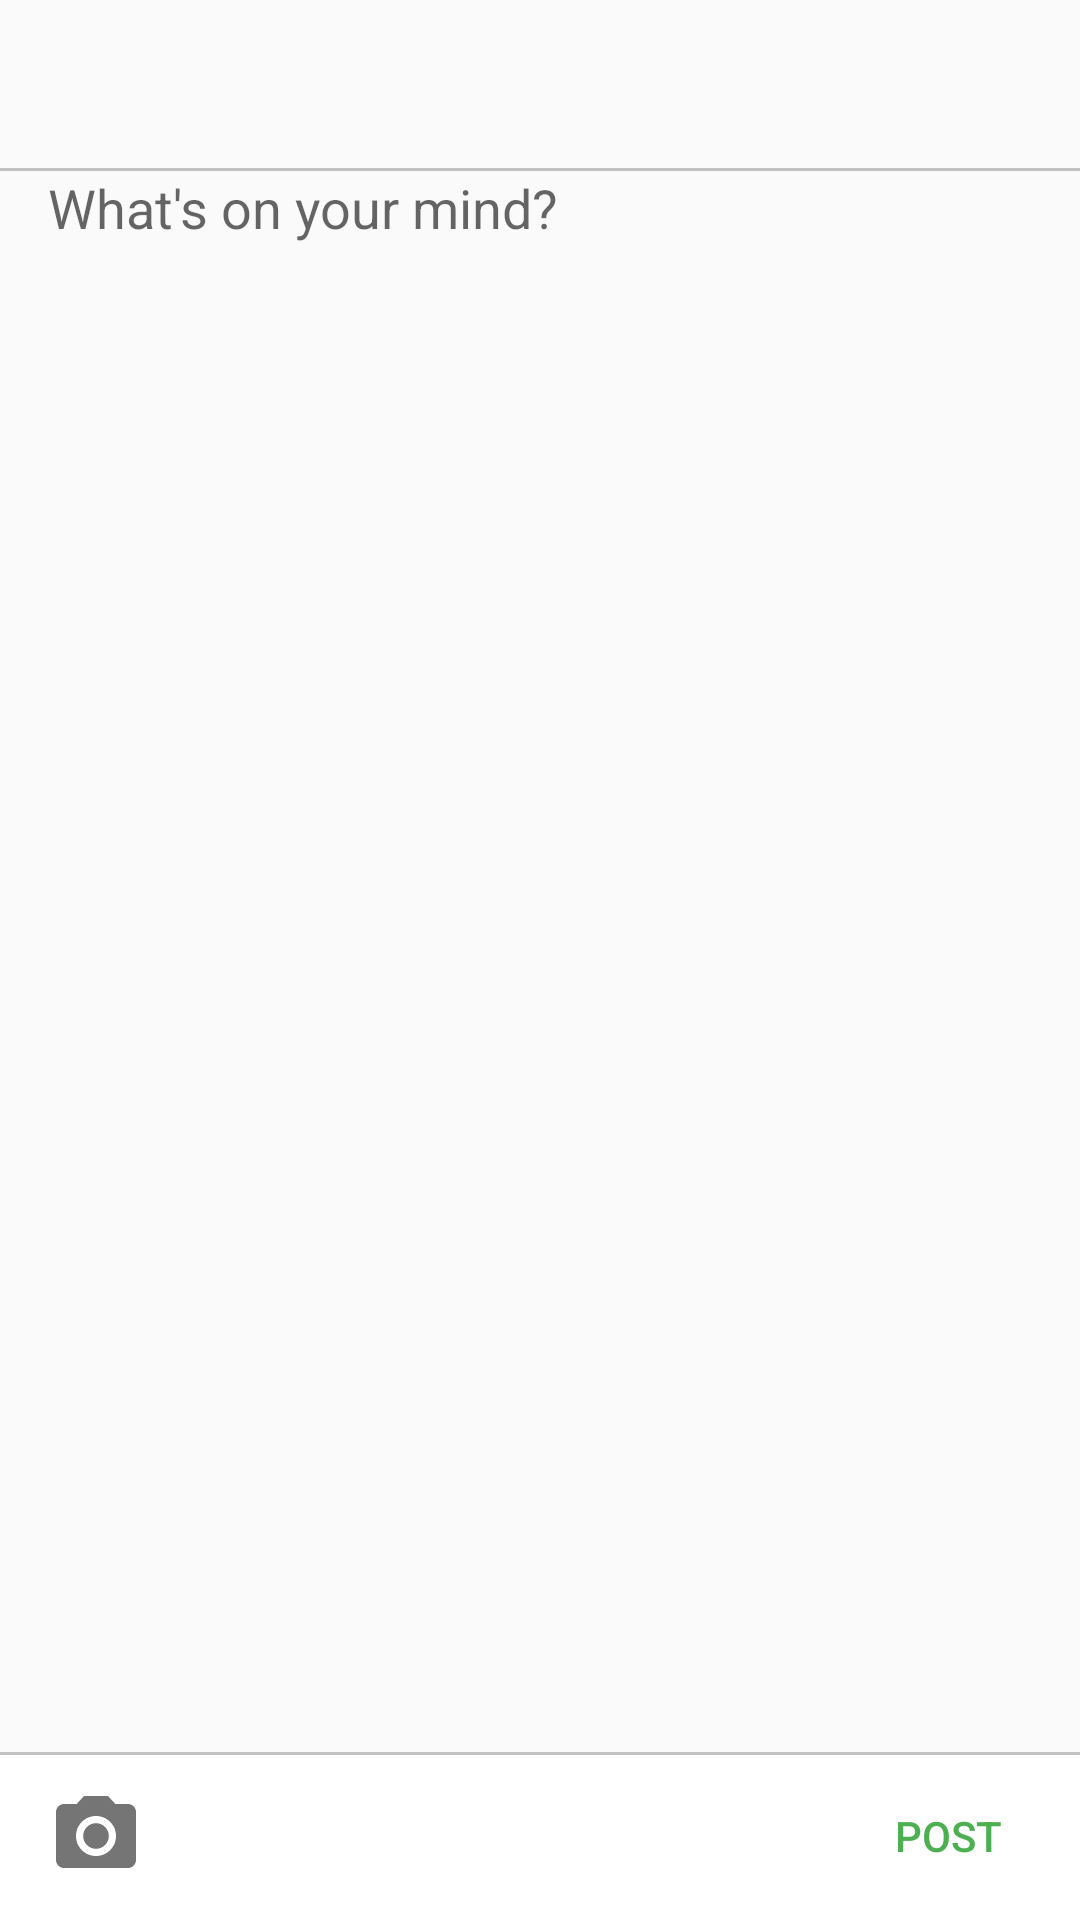

Point at icon controls on the screen. Image size 1080×1920, points as [x,y].
camera: [96,1832]
